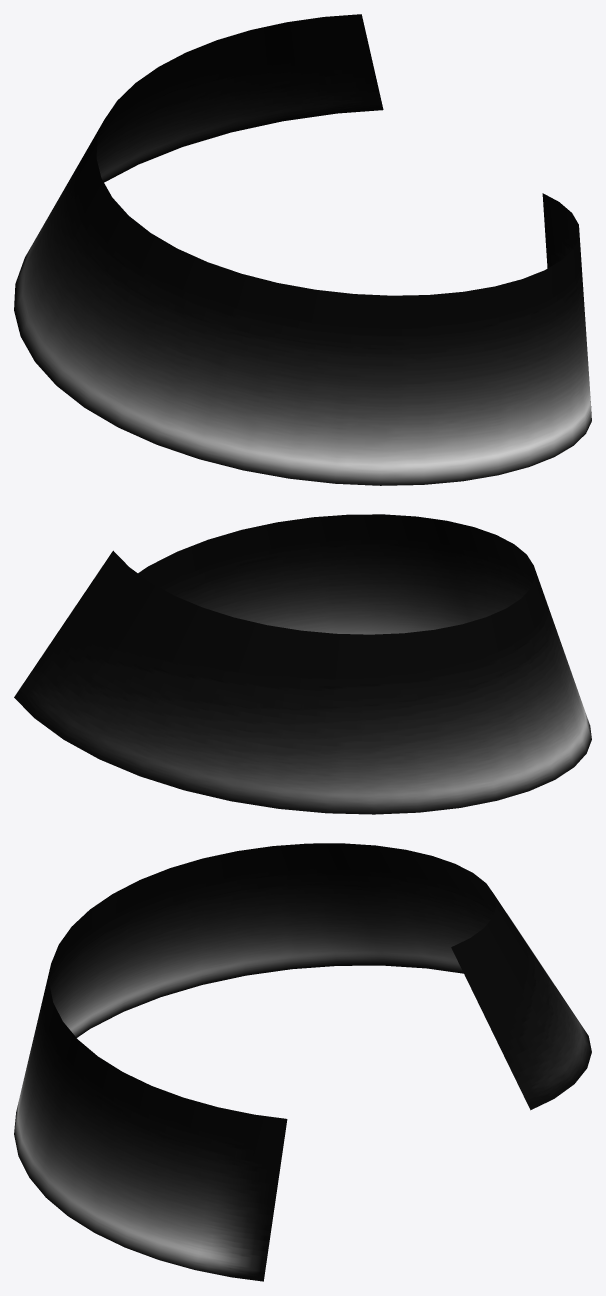
The model's file is 0196_XiaoZhiDeRenHeJiaWa_SkillC_Mesh_02.glb.
The picture shows the model from 3 angles, top to bottom: view 1: azimuth 30°, elevation 25°; view 2: azimuth 150°, elevation 25°; view 3: azimuth 270°, elevation 25°; orthographic projection. The views are drawn at different scales.
Bounding box in the file's own units: 1.99 × 1.23 × 2.2.
1 material, 1 textured.
